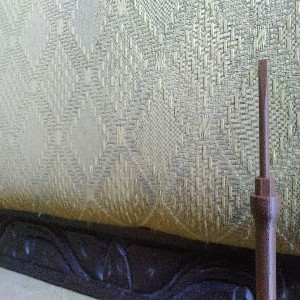obeng: (249, 58, 282, 300)
